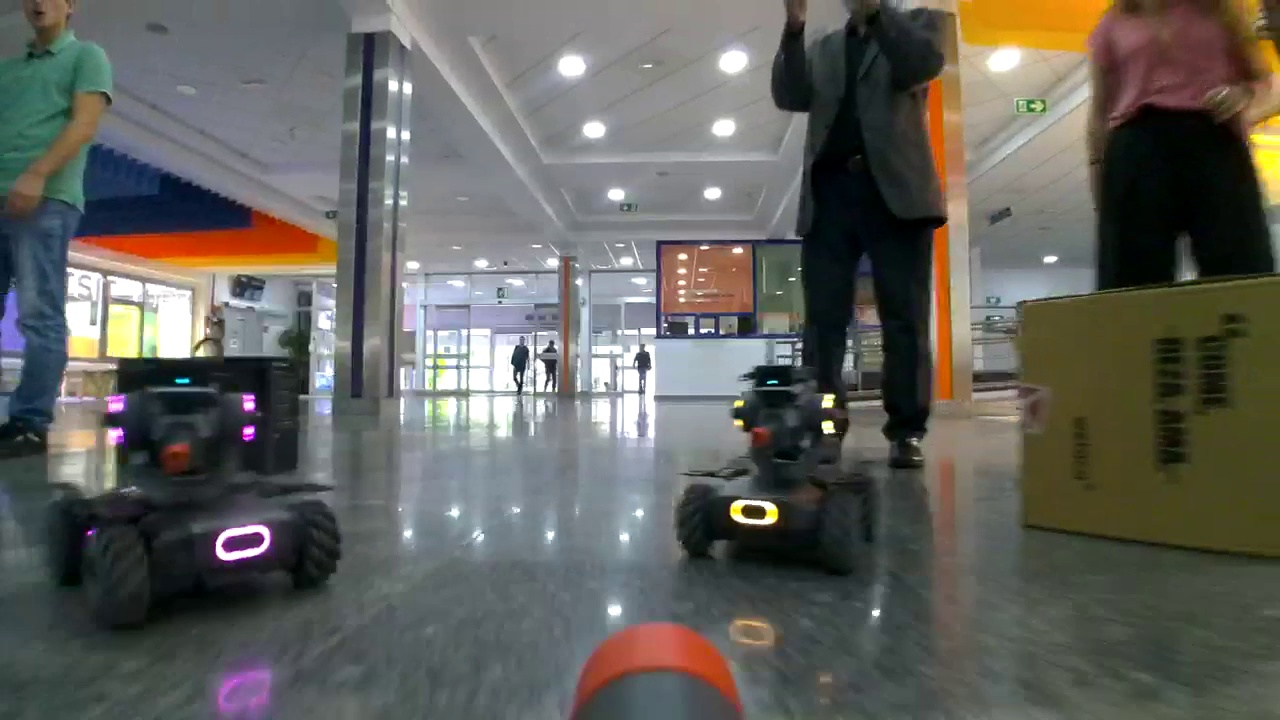robot: (39, 354, 344, 637), (669, 361, 881, 581)
